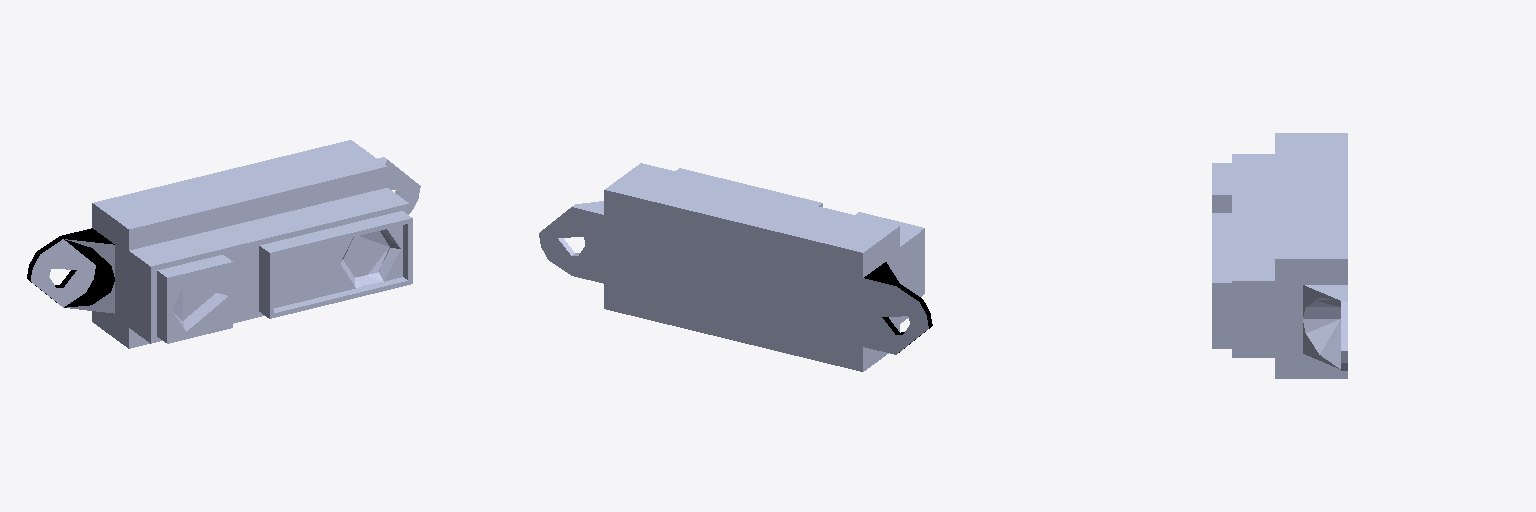
3 views of the same model, side by side, from view 1: azimuth 30°, elevation 25°; view 2: azimuth 150°, elevation 25°; view 3: azimuth 270°, elevation 25° (orthographic).
Visible parts, largest first — view 1: mesh 1 2Y0A22, mesh 2 Scale1 face; view 2: mesh 1 2Y0A22, mesh 2 Scale1 face; view 3: mesh 1 2Y0A22.
Part boxes in pixels (x1,y1,x2,y2): mesh 1 2Y0A22: (31, 140, 420, 348); mesh 2 Scale1 face: (27, 228, 114, 307); mesh 1 2Y0A22: (539, 163, 928, 371); mesh 2 Scale1 face: (864, 262, 932, 352); mesh 1 2Y0A22: (1212, 133, 1347, 378).
Size of the model in its own units: 0.0067 by 0.0019 by 0.002.